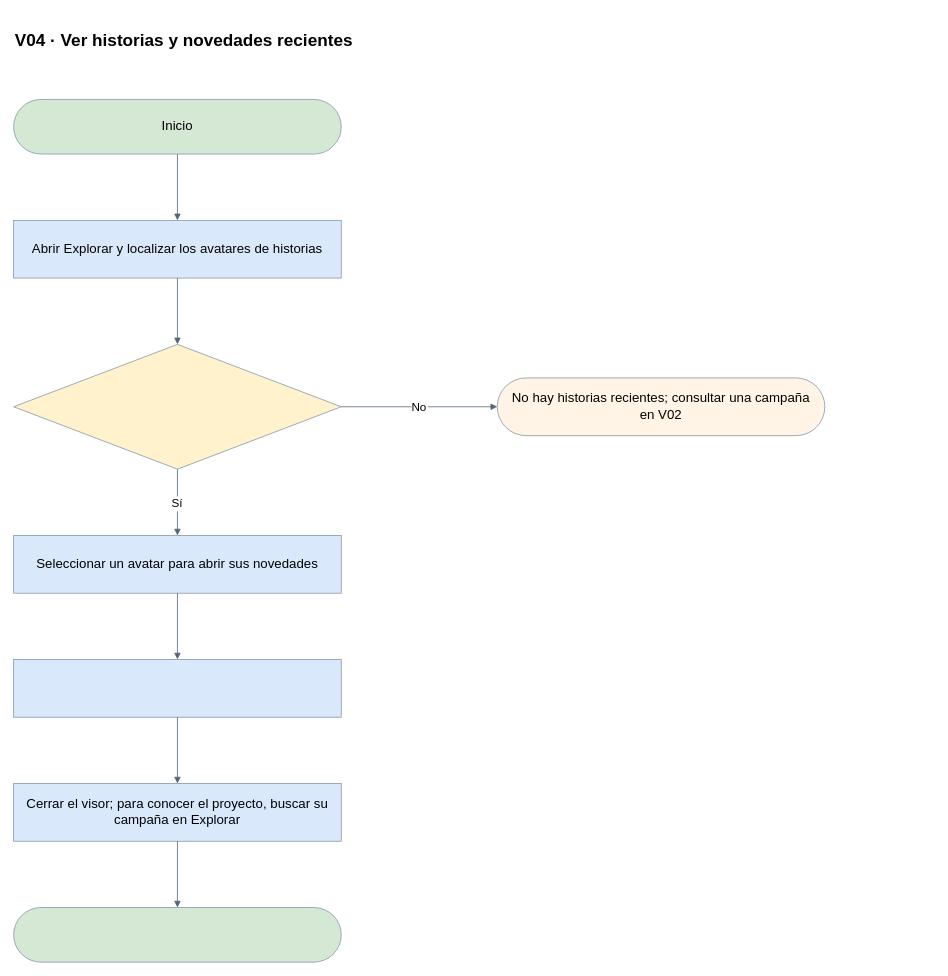
Some shapes in this 948 by 976 pixel diagram are drawn without their labels. Each missing label, with the centre of its shape:
Fin: (177,934)
Leer las novedades y avanzar o retroceder entre historias: (177,688)
¿Hay historias disponibles?: (177,406)
